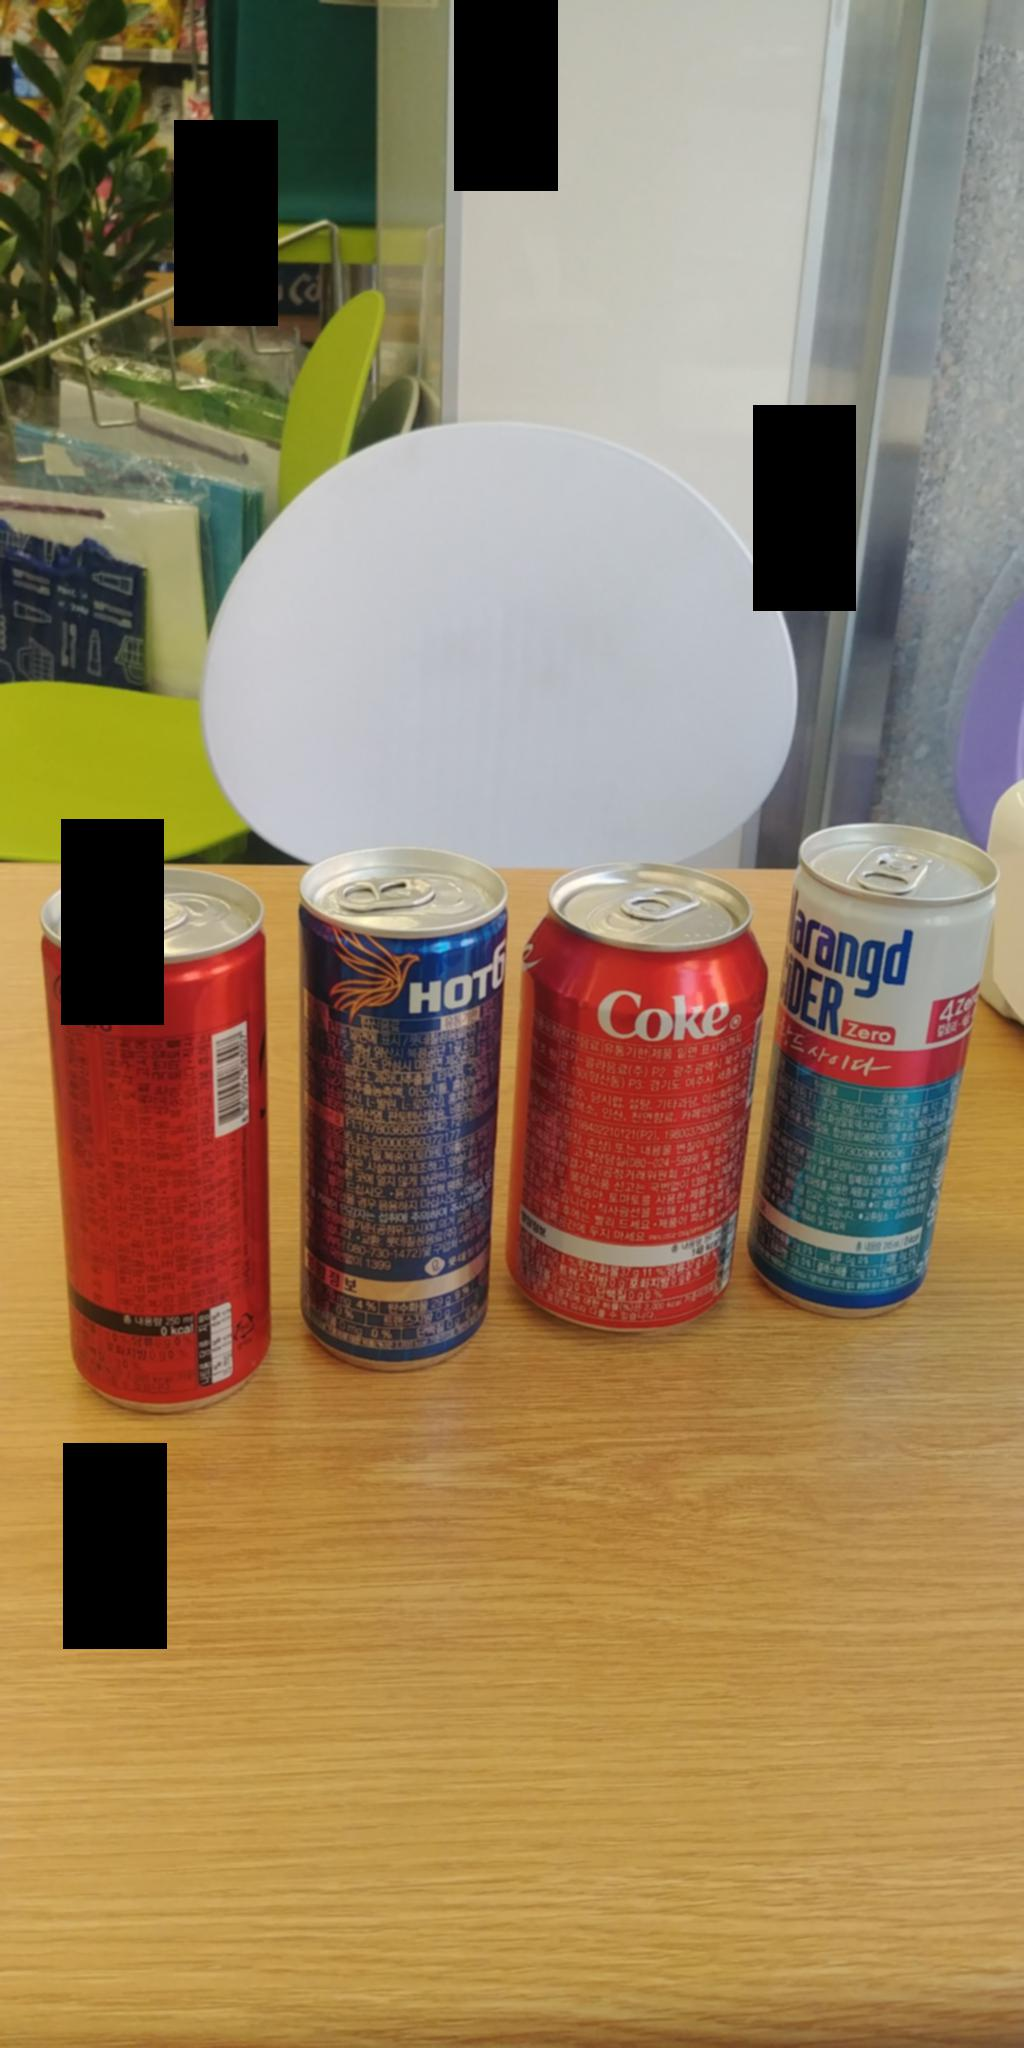cocacola: (524, 866, 734, 1330)
hotsix_org: (307, 852, 498, 1378)
narangdcider: (771, 818, 994, 1310)
